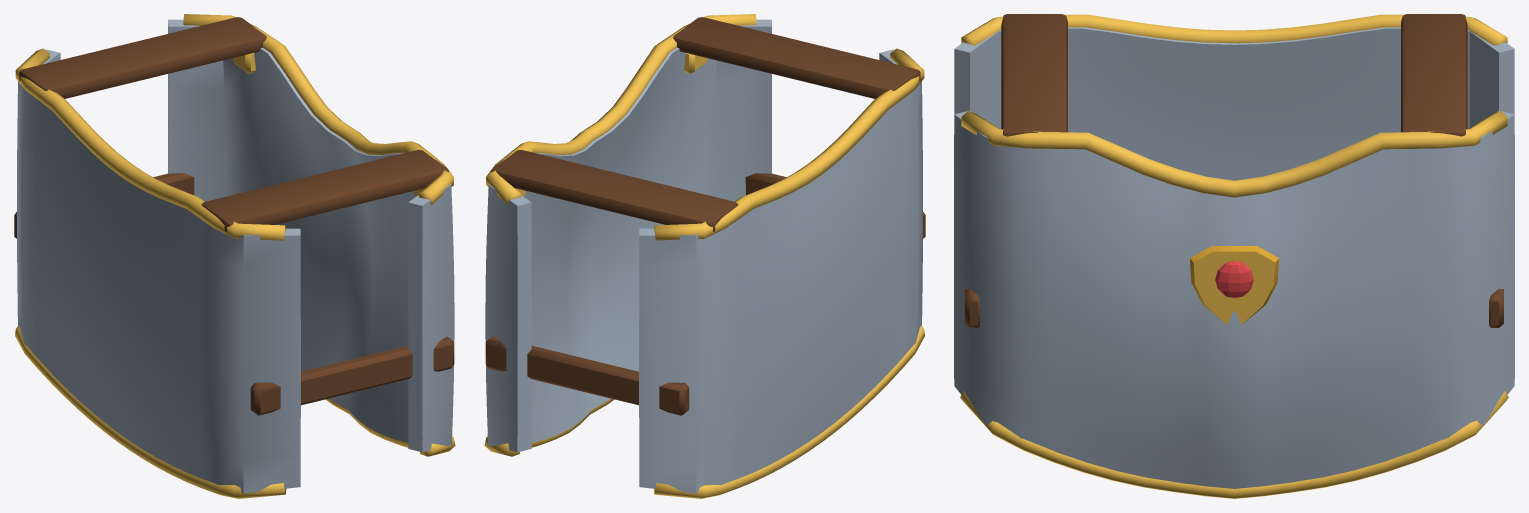
The model's file is detail_chest_armor.glb.
The picture shows the model from 3 angles, left to right: view 1: azimuth 30°, elevation 25°; view 2: azimuth 150°, elevation 25°; view 3: azimuth 270°, elevation 25°; orthographic projection. The views are drawn at different scales.
Visible parts, largest first — view 1: detail_chest_armor; view 2: detail_chest_armor; view 3: detail_chest_armor.
Boxes of the visible parts, x1=… form: detail_chest_armor: x1=14, y1=14, x2=455, y2=498; detail_chest_armor: x1=484, y1=14, x2=925, y2=498; detail_chest_armor: x1=954, y1=14, x2=1514, y2=498.
Bounding box in the file's own units: 0.5728 × 0.659 × 0.9265.
